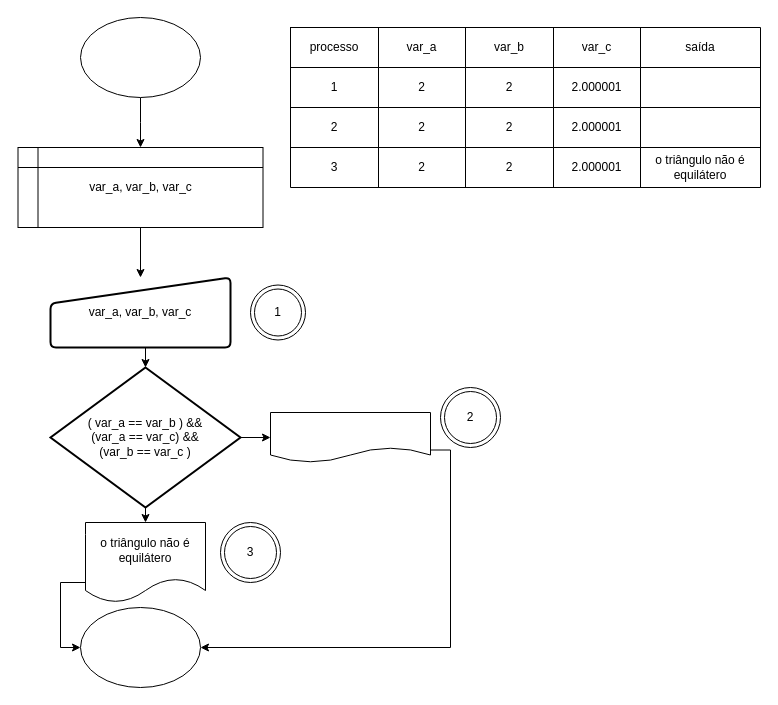
Some shapes in this 778 by 705 pixel diagram are drawn without their labels. Each missing label, with the centre of its shape:
fim: pixel 140 647
início: pixel 140 57
o triângulo é equilátero: pixel 350 437
